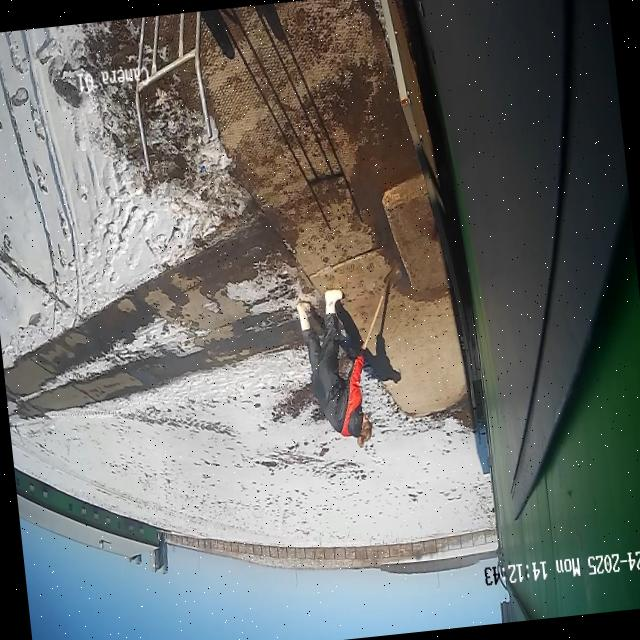Red uniform: (293, 284, 377, 448)
